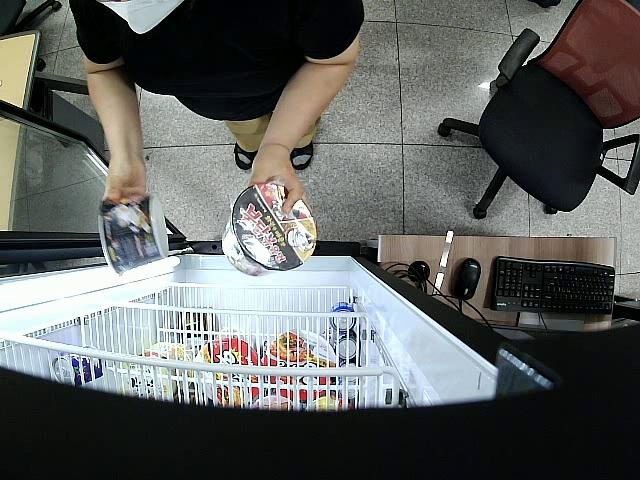00_hand: (247, 145, 303, 213), (107, 159, 147, 206)
07_buldak_L: (221, 185, 317, 277), (98, 195, 169, 277)
